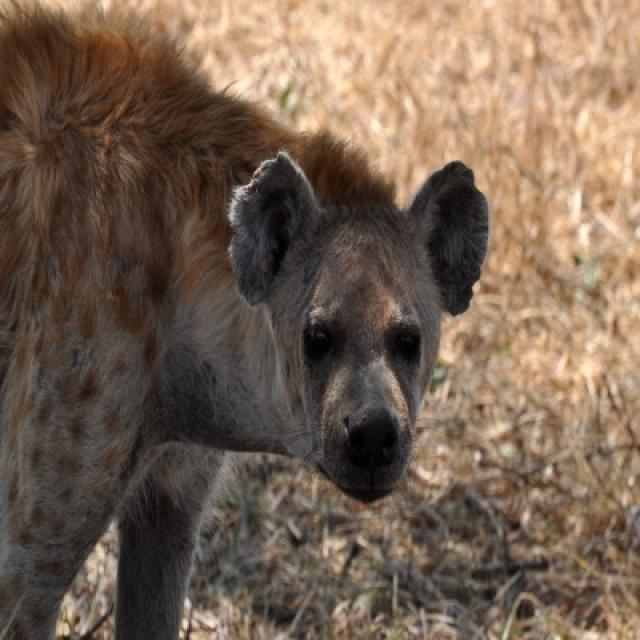hyena: (0, 8, 491, 638)
